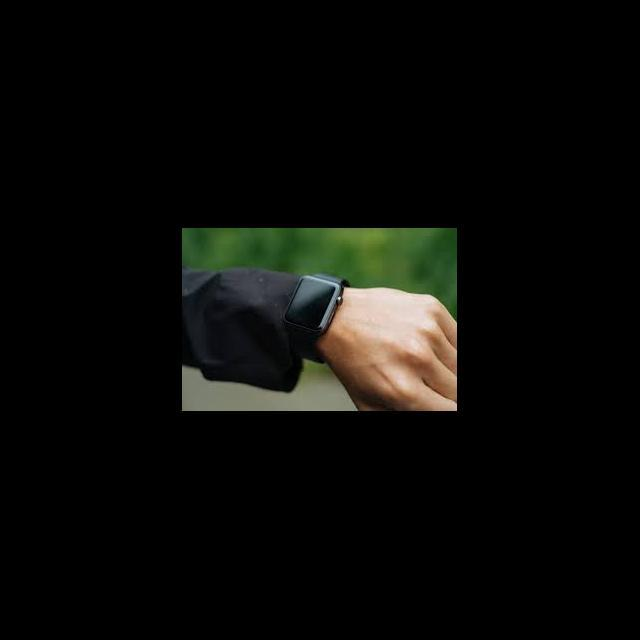watch: (282, 258, 355, 374)
